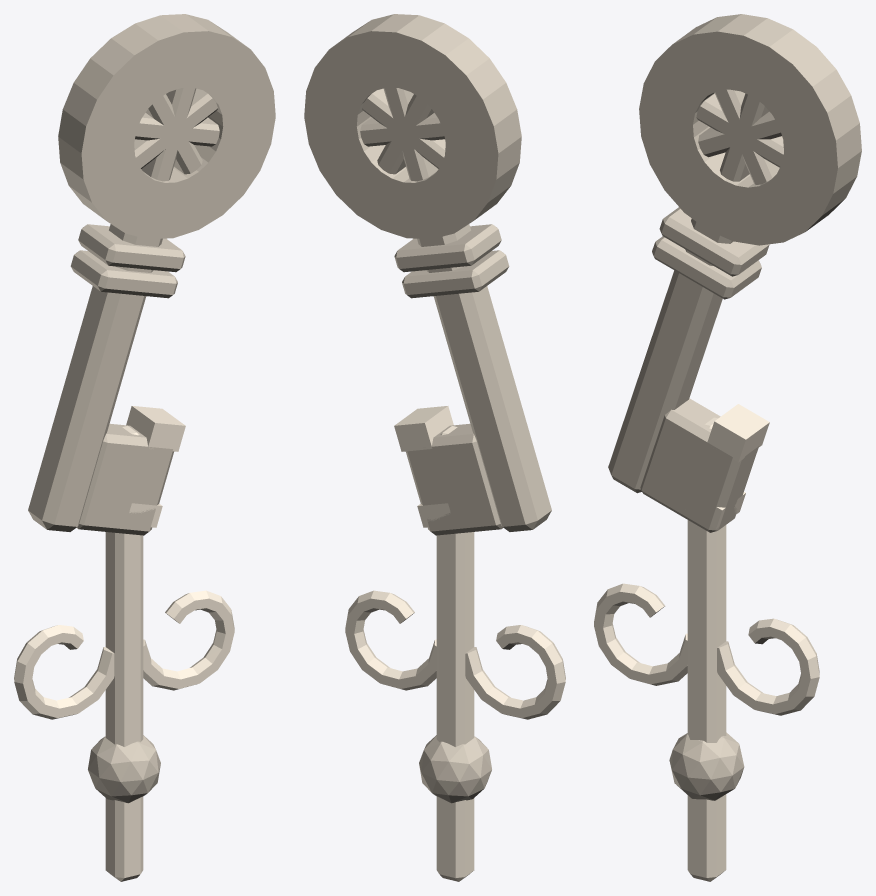
File: SM_VK_Emblem_Ridge_Key.fbx
3 renders of one model, left to right at view 1: azimuth 30°, elevation 25°; view 2: azimuth 150°, elevation 25°; view 3: azimuth 330°, elevation 25°, orthographic. The views are drawn at different scales.
Parts seen in each view (by area): view 1: SM_VK_Emblem_Ridge_Key.001; view 2: SM_VK_Emblem_Ridge_Key.001; view 3: SM_VK_Emblem_Ridge_Key.001.
Boxes of the visible parts, left/top/right/bottom form: SM_VK_Emblem_Ridge_Key.001: left=14, top=14, right=275, bottom=881; SM_VK_Emblem_Ridge_Key.001: left=304, top=14, right=565, bottom=881; SM_VK_Emblem_Ridge_Key.001: left=594, top=14, right=861, bottom=881.
Size of the model in its own units: 0.6167 by 1.98 by 0.16.
